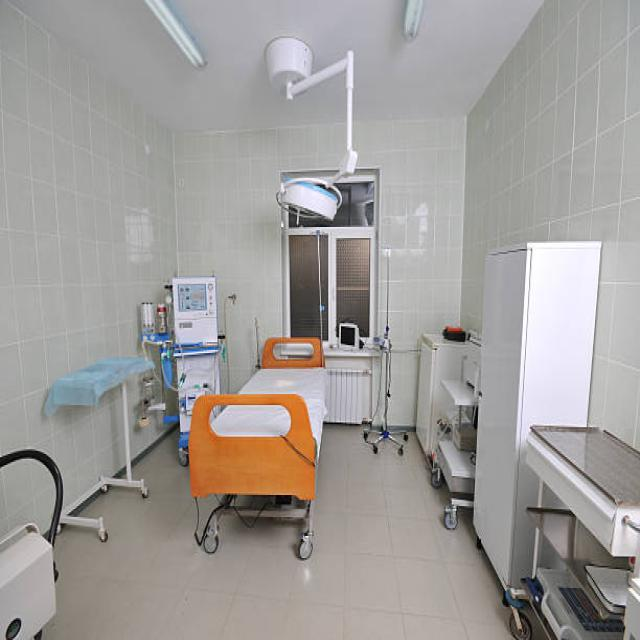Saline Stand: (353, 219, 407, 452)
bed: (190, 324, 336, 564)
tools_table: (48, 352, 154, 580)
